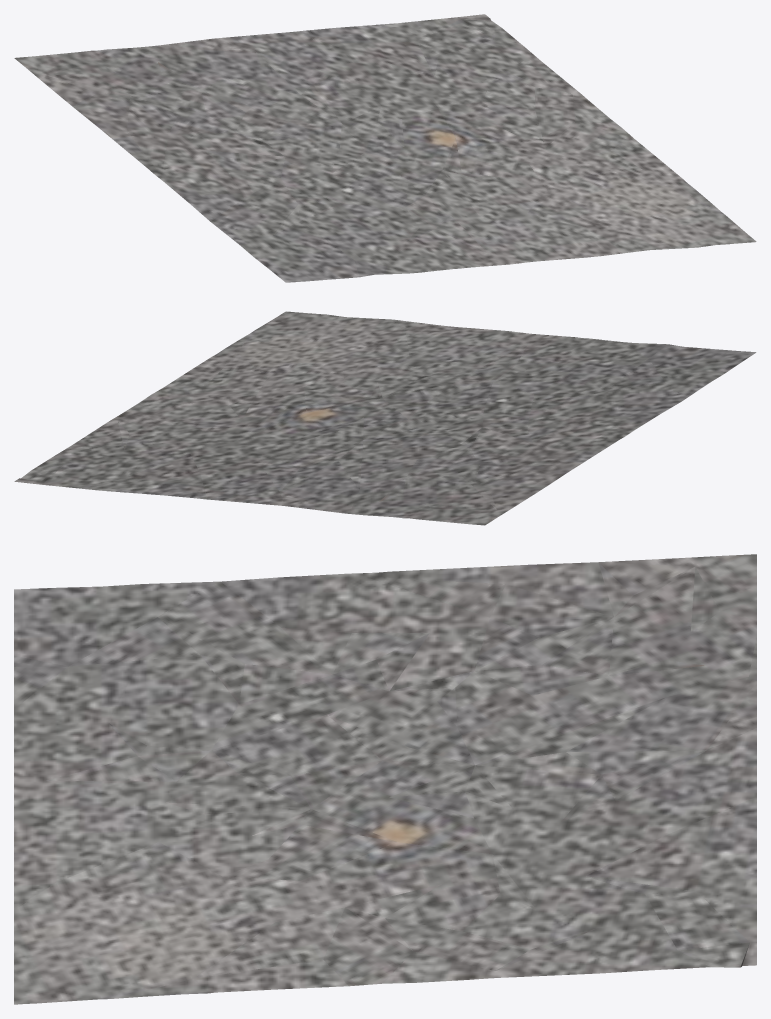
The picture shows the model from 3 angles, top to bottom: view 1: azimuth 30°, elevation 25°; view 2: azimuth 150°, elevation 25°; view 3: azimuth 270°, elevation 25°; orthographic projection. The views are drawn at different scales.
Bounding box in the file's own units: 0.8373 × 0.1698 × 0.8373.
3 materials, 3 textured.
